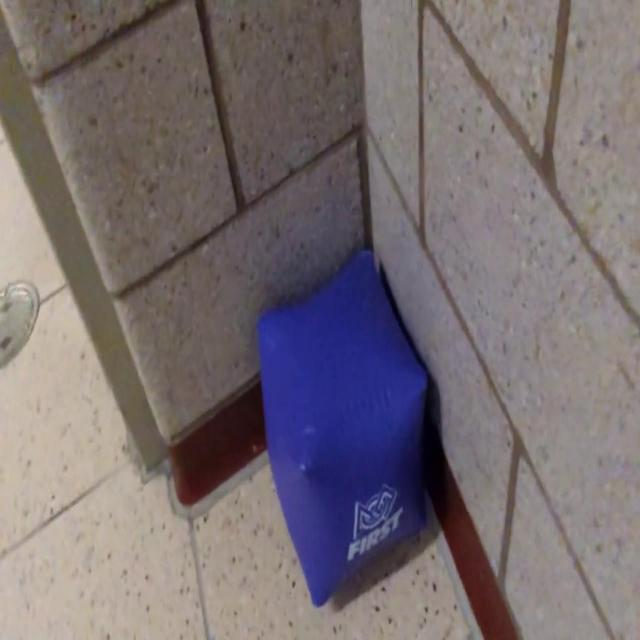frc_cube: (260, 252, 428, 602)
